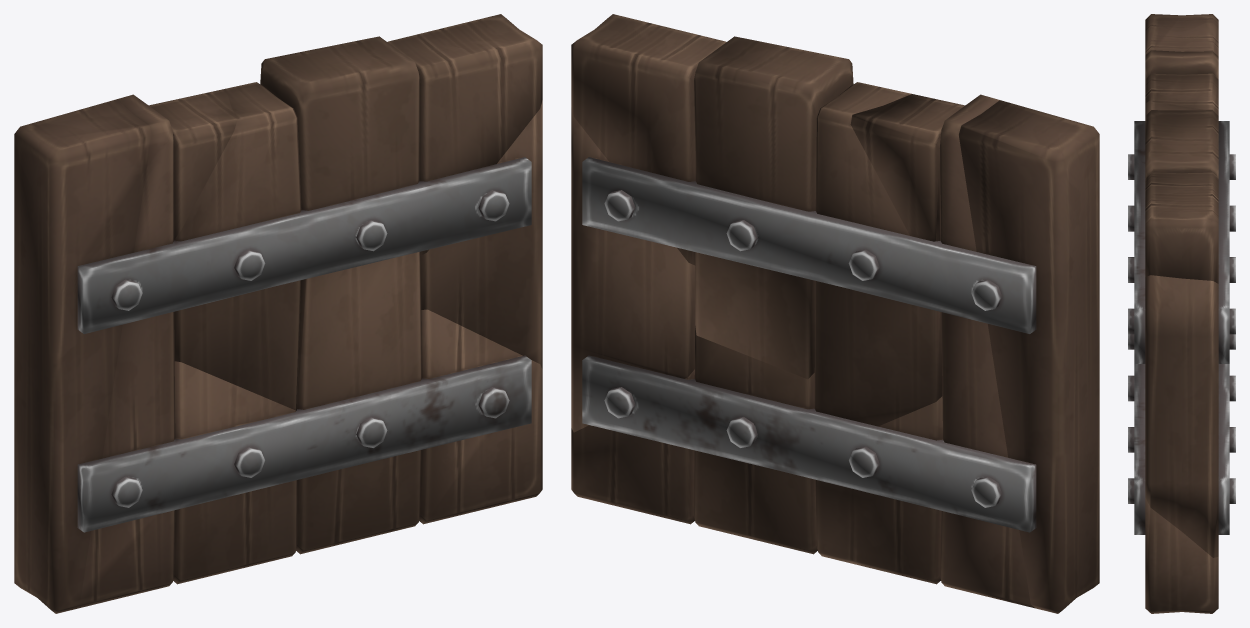
Rendered from woodenDoorFracture.fbx.
3 renders of one model, left to right at view 1: azimuth 30°, elevation 25°; view 2: azimuth 150°, elevation 25°; view 3: azimuth 270°, elevation 25°, orthographic. The views are drawn at different scales.
Parts seen in each view (by area): view 1: doorWood_fracture..009, doorWood_fracture..013, doorWood_fracture.000, doorWood_fracture..002, doorWood_fracture..008, doorWood_fracture..007, doorWood_fracture..003, doorWood_fracture..005, doorWood_fracture..001, doorWood_fracture..006, doorWood_fracture..004, doorWood_fracture..010; view 2: doorWood_fracture..009, doorWood_fracture..012, doorWood_fracture..011, doorWood_fracture..007, doorWood_fracture..008, doorWood_fracture..006, doorWood_fracture..003, doorWood_fracture..005, doorWood_fracture..002, doorWood_fracture..001, doorWood_fracture..004, doorWood_fracture..010; view 3: doorWood_fracture..006, doorWood_fracture..005, doorWood_fracture..004, doorWood_fracture..007, doorWood_fracture..011, doorWood_fracture.000, doorWood_fracture..009, doorWood_fracture..012, doorWood_fracture..013, doorWood_fracture..010, doorWood_fracture..003, doorWood_fracture..008.
Boxes of the visible parts, x1,y1,x2,y2 form: doorWood_fracture..009: (14,99,151,613); doorWood_fracture..013: (77,355,531,532); doorWood_fracture.000: (77,157,531,333); doorWood_fracture..002: (296,251,422,554); doorWood_fracture..008: (174,82,301,410); doorWood_fracture..007: (260,36,420,210); doorWood_fracture..003: (76,94,175,608); doorWood_fracture..005: (387,14,542,255); doorWood_fracture..001: (173,361,297,584); doorWood_fracture..006: (420,100,542,369); doorWood_fracture..004: (419,309,542,524); doorWood_fracture..010: (149,88,237,238); doorWood_fracture..009: (959,100,1099,613); doorWood_fracture..012: (582,355,1036,532); doorWood_fracture..011: (582,157,1036,333); doorWood_fracture..007: (694,36,853,379); doorWood_fracture..008: (814,82,942,426); doorWood_fracture..006: (571,107,695,432); doorWood_fracture..003: (939,94,1034,608); doorWood_fracture..005: (571,14,726,265); doorWood_fracture..002: (694,326,817,554); doorWood_fracture..001: (815,396,942,584); doorWood_fracture..004: (571,369,694,524); doorWood_fracture..010: (850,94,964,241); doorWood_fracture..006: (1145,275,1218,557); doorWood_fracture..005: (1145,172,1218,283); doorWood_fracture..004: (1145,498,1218,613); doorWood_fracture..007: (1145,110,1218,177); doorWood_fracture..011: (1218,121,1235,363); doorWood_fracture.000: (1128,121,1145,363); doorWood_fracture..009: (1145,14,1218,56); doorWood_fracture..012: (1218,334,1235,534); doorWood_fracture..013: (1128,334,1145,534); doorWood_fracture..010: (1145,73,1218,115); doorWood_fracture..003: (1145,50,1218,78); doorWood_fracture..008: (1145,100,1205,115).
Bounding box in the file's own units: 440 × 401 × 96.79.
Materials: 1 (1 with a texture image).
